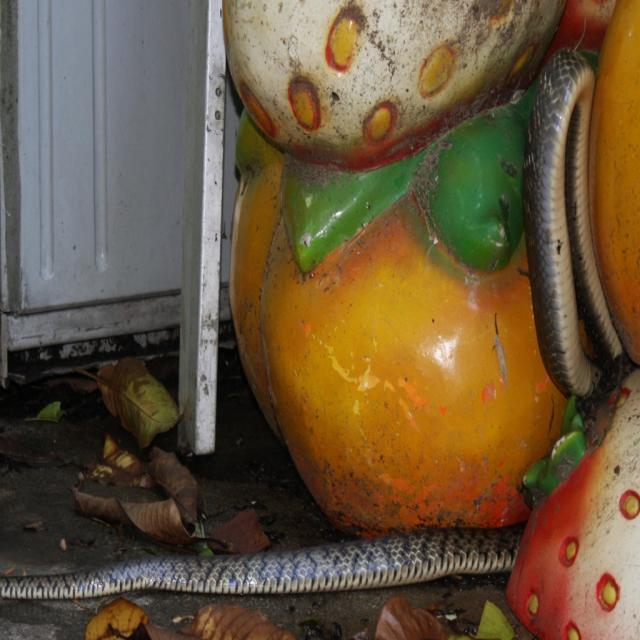Snake: (1, 41, 630, 604)
